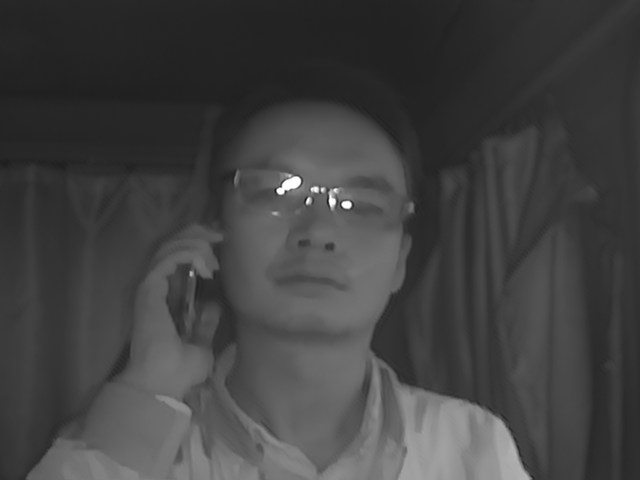hand: (127, 225, 228, 382)
